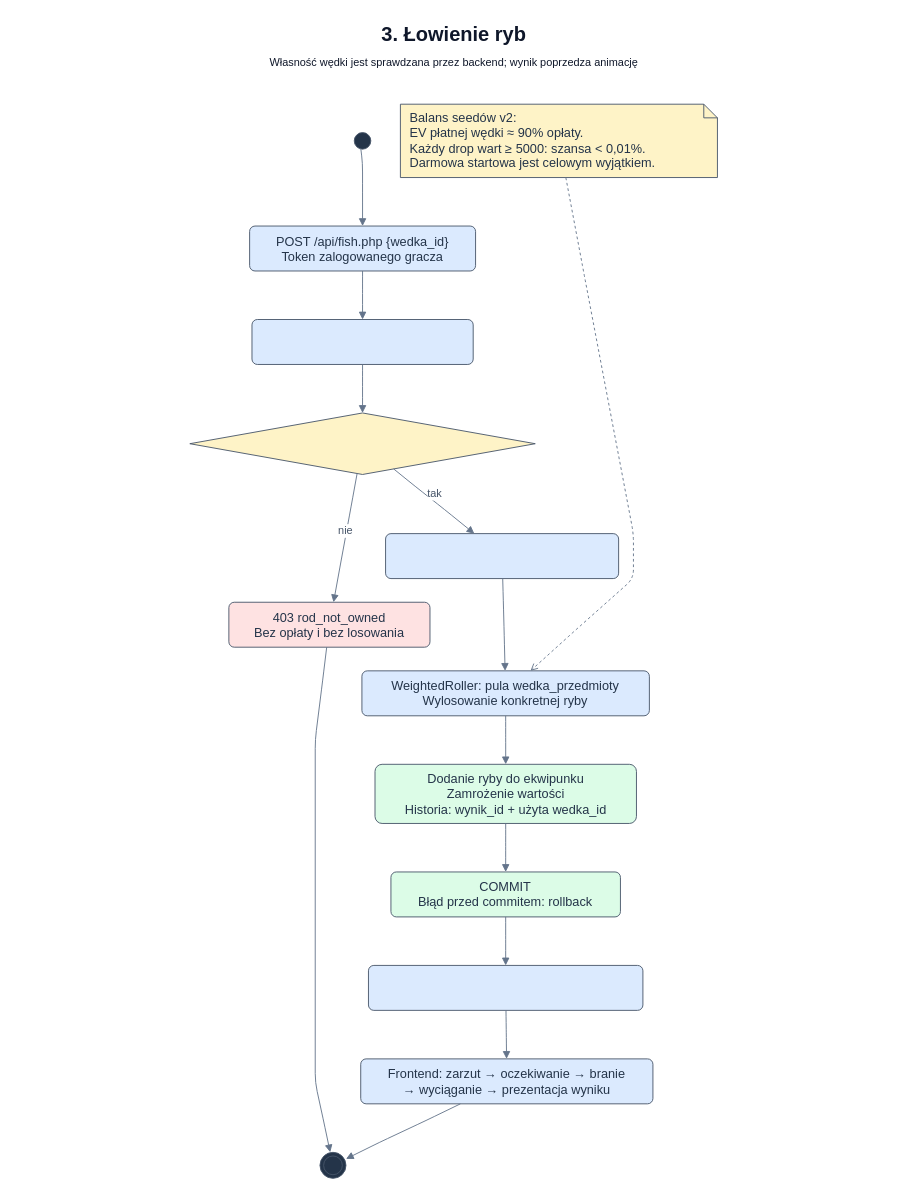
The diagram is 906 pixels wide and 1194 high, and some of its shapes have lost their labels. The centre of each missing label's shape, as x and y in pixels:
"BEGIN: pobranie kosztu zarzutu Startowa: koszt 0" goes at point 502,556.
"Budowa paska reel z gotową wygraną Zwrot wyniku i salda w JSON" goes at point 505,987.
"Gracz posiada wędkę?" goes at point 362,443.
"Wędka aktywna i ma pulę ryb Zapewnienie wędki startowej" goes at point 362,341.
